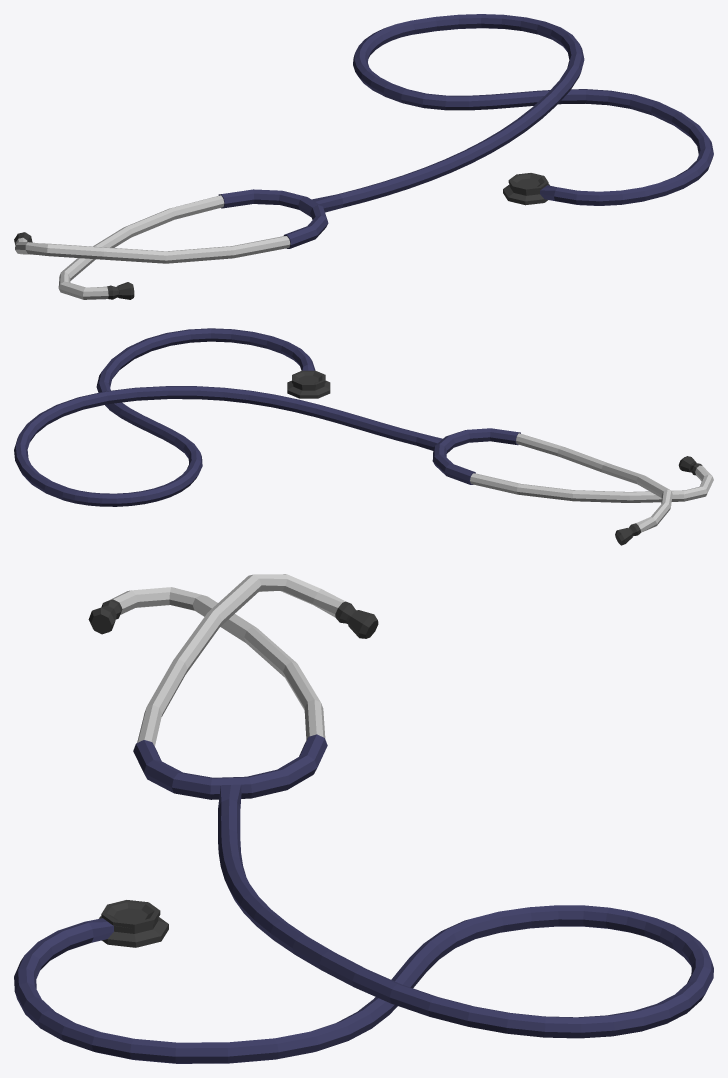
The model's file is Stethoscope.fbx.
3 renders of one model, top to bottom at view 1: azimuth 30°, elevation 25°; view 2: azimuth 150°, elevation 25°; view 3: azimuth 270°, elevation 25°, orthographic. The views are drawn at different scales.
Parts seen in each view (by area): view 1: BezierCurve; view 2: BezierCurve; view 3: BezierCurve.
Part boxes in pixels (x1=…): BezierCurve: x1=14, y1=14, x2=713, y2=299; BezierCurve: x1=14, y1=328, x2=713, y2=545; BezierCurve: x1=14, y1=574, x2=713, y2=1063.
Size of the model in its own units: 507 by 30.43 by 322.
